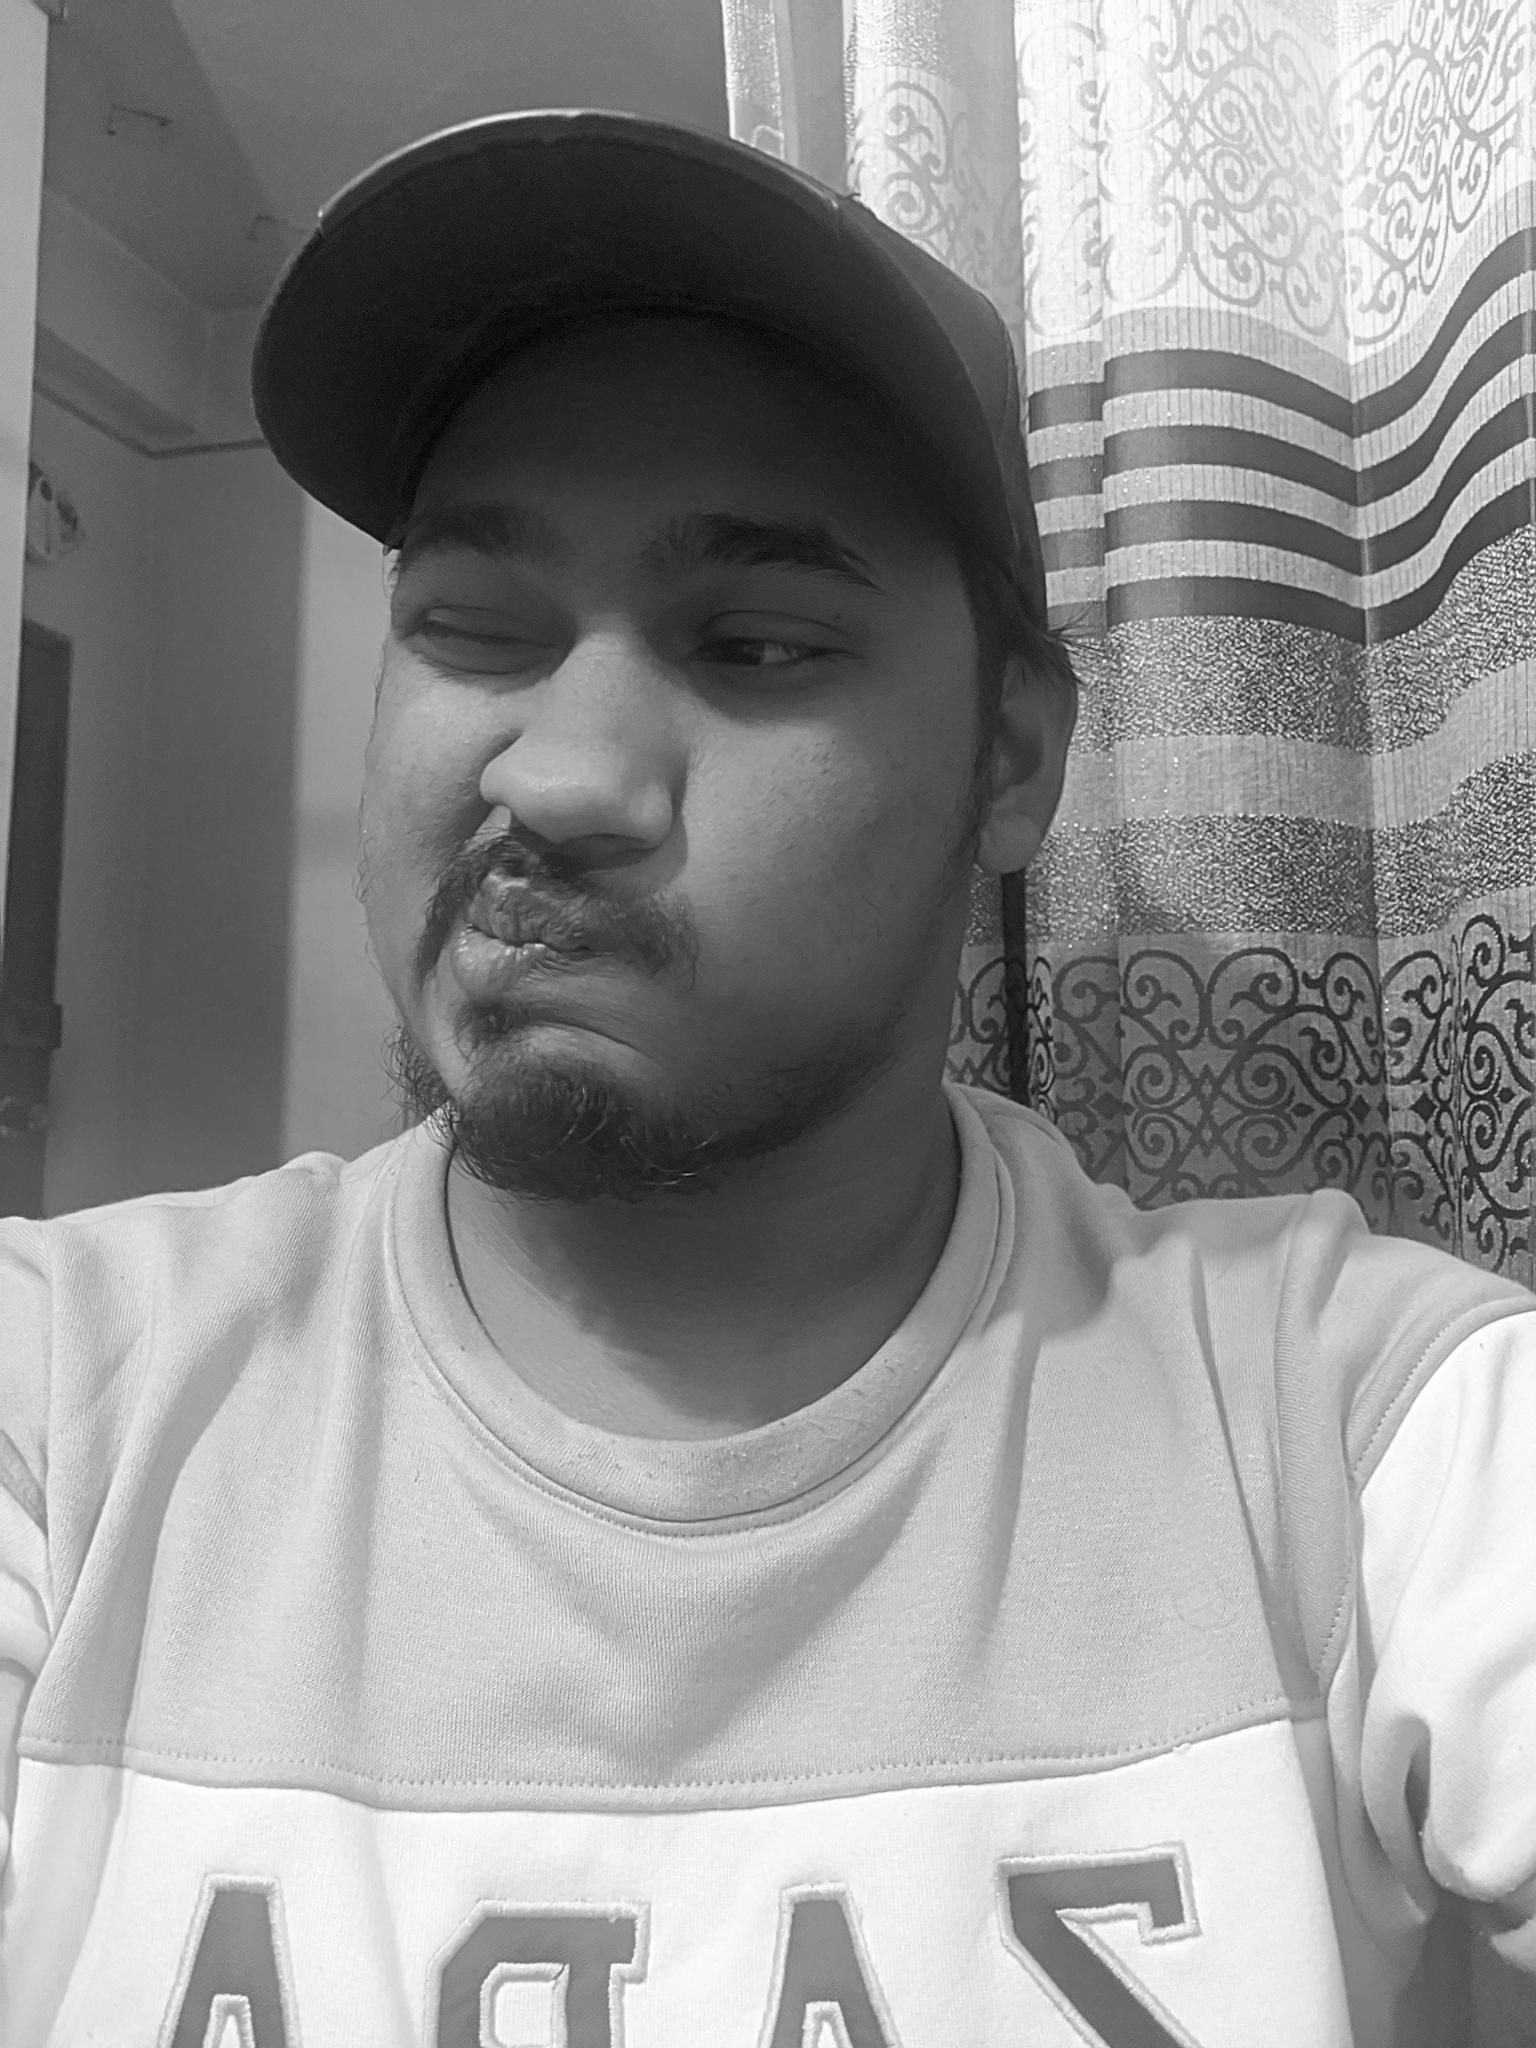Disgust: (321, 424, 923, 1190)
